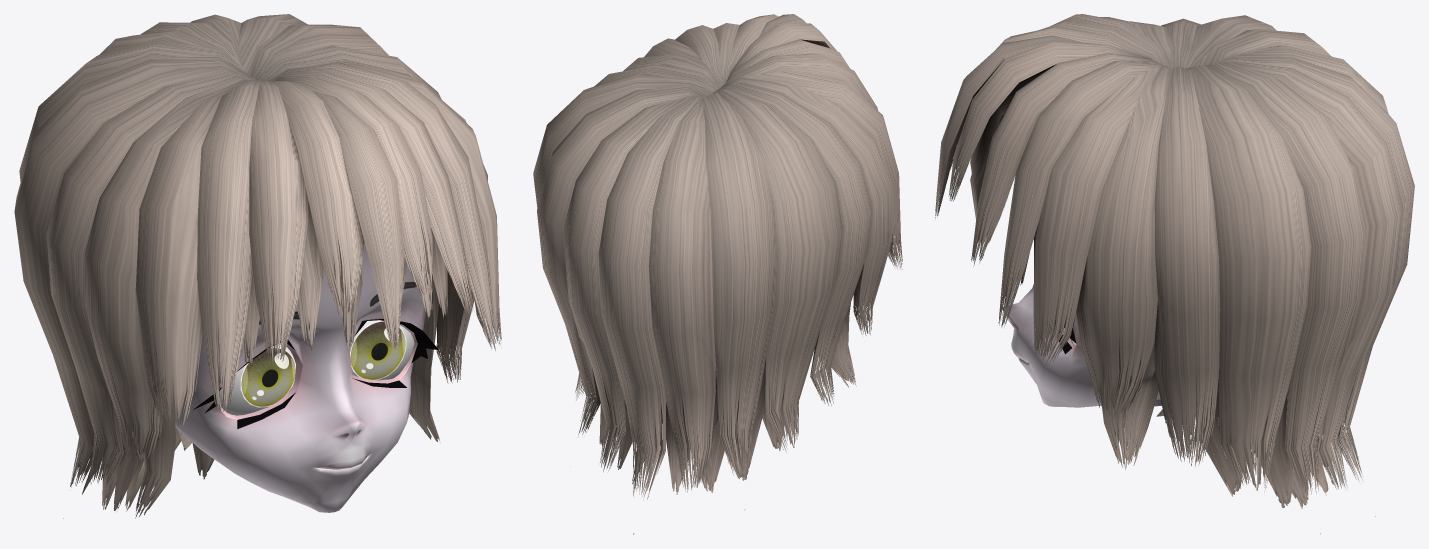
The model's file is head_Girl.gltf.
The picture shows the model from 3 angles, left to right: view 1: azimuth 30°, elevation 25°; view 2: azimuth 150°, elevation 25°; view 3: azimuth 270°, elevation 25°; orthographic projection. The views are drawn at different scales.
Parts seen in each view (by area): view 1: hair.girl, head.girl, eyeball.R, eyeball.L; view 2: hair.girl; view 3: hair.girl, head.girl.
Boxes of the visible parts, left/top/right/bottom form: hair.girl: left=14, top=14, right=501, bottom=518; head.girl: left=173, top=242, right=438, bottom=512; eyeball.R: left=219, top=343, right=295, bottom=415; eyeball.L: left=350, top=320, right=414, bottom=380; hair.girl: left=533, top=14, right=902, bottom=534; hair.girl: left=935, top=14, right=1414, bottom=533; head.girl: left=1002, top=239, right=1161, bottom=407.
Bounding box in the file's own units: 13.14 × 17.01 × 15.4.
Materials: 6 (5 with a texture image).
